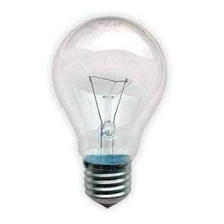light_bulb: (44, 13, 170, 215)
